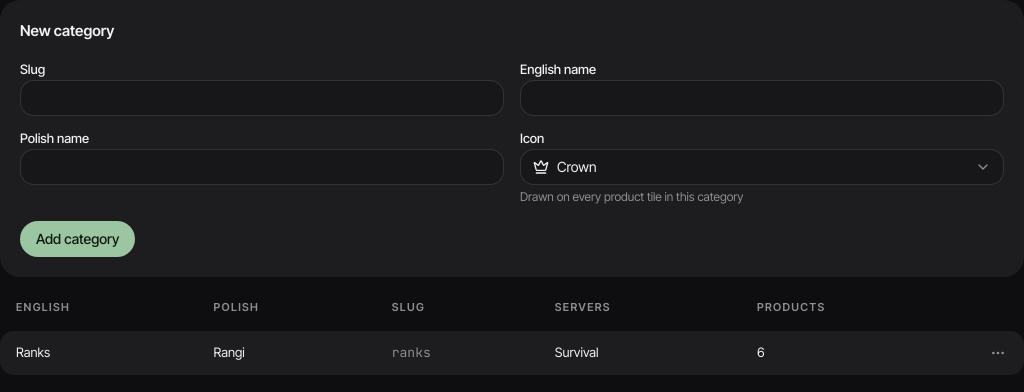
CategoriesTable › clicking a row opens its edit form
The image size is (1024, 392).
Click the text "ranks". click: x=411, y=352
box: [392,344,431,361]
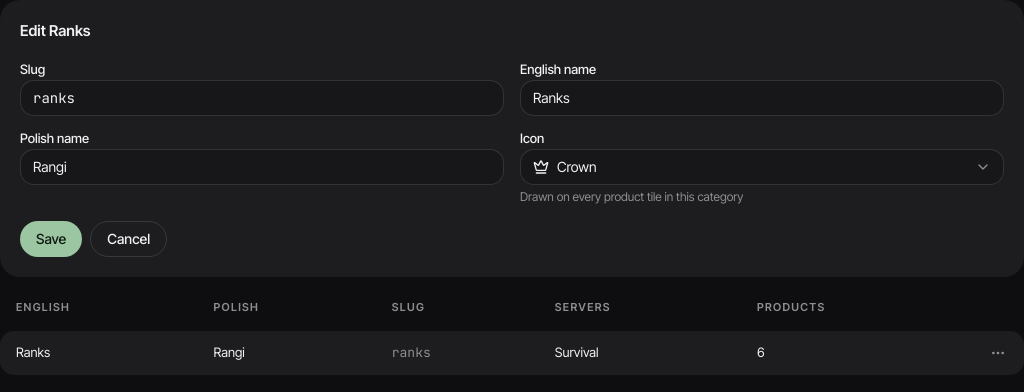
Result: the text "Edit Ranks" is shown at [20,21,90,40]
